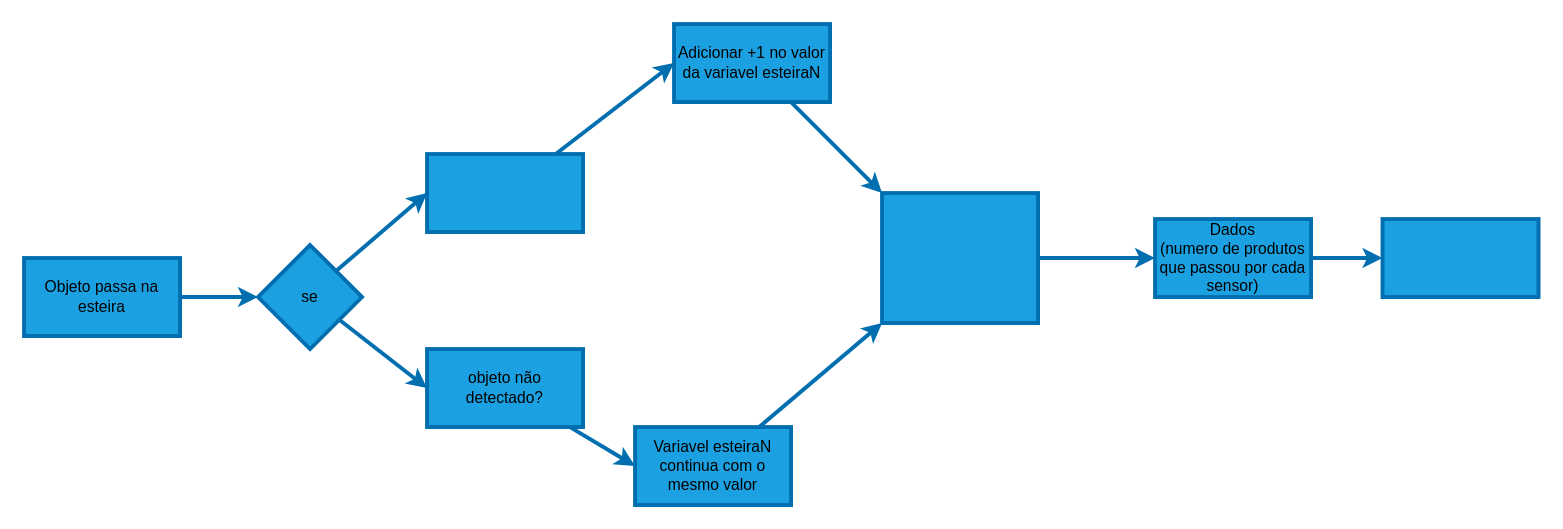
The diagram is 1563 pixels wide and 529 high, and some of its shapes have lost their labels. The shapes that lost their labels are listed below. From the top down, each one's box as (x1, y1, x2, y2) in pixels, then its label:
(424, 151, 584, 233): objeto detectado?
(879, 190, 1039, 324): Esse processo se repete por quantas esteiras existirem na linha de produção
(1380, 216, 1540, 298): Total perdido em %
